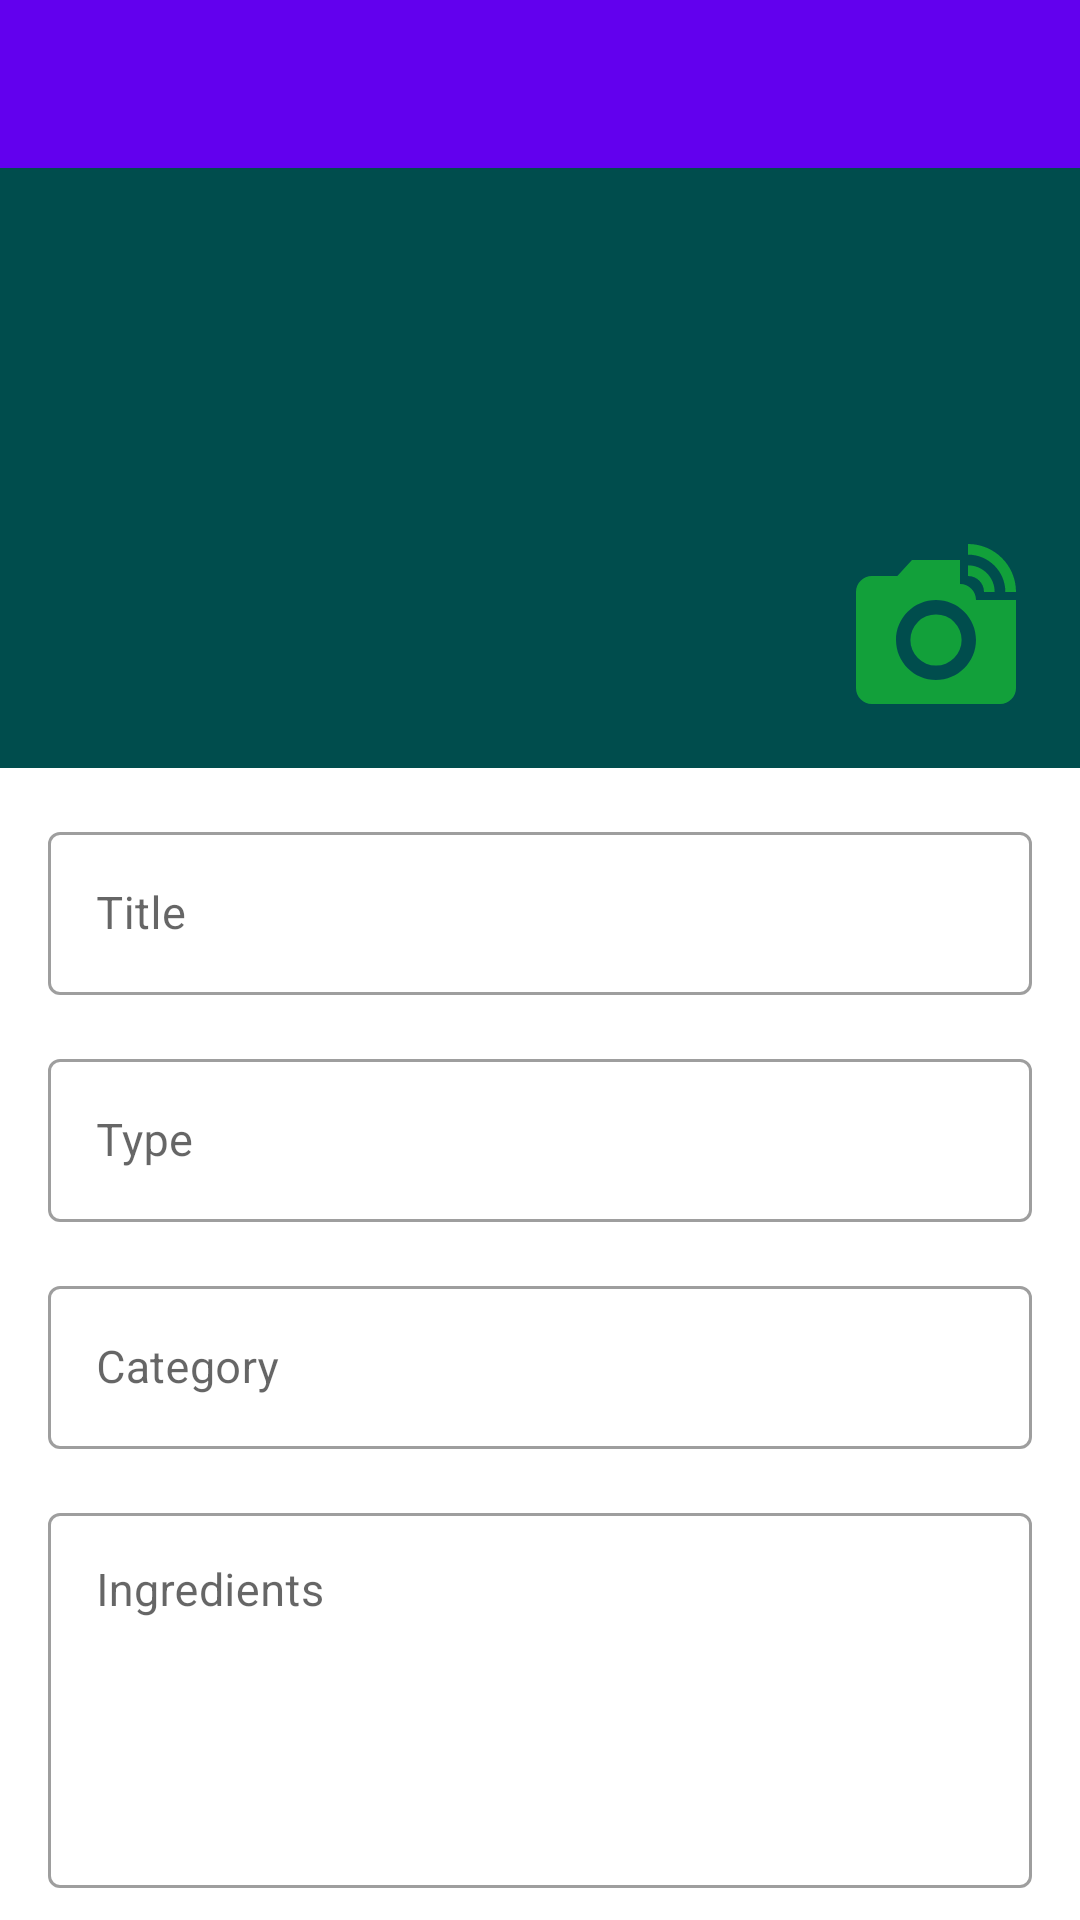

Named icons in this screenshot (1080×1920) and their centers, (x=x, y=y):
add photo: (x=936, y=624)
